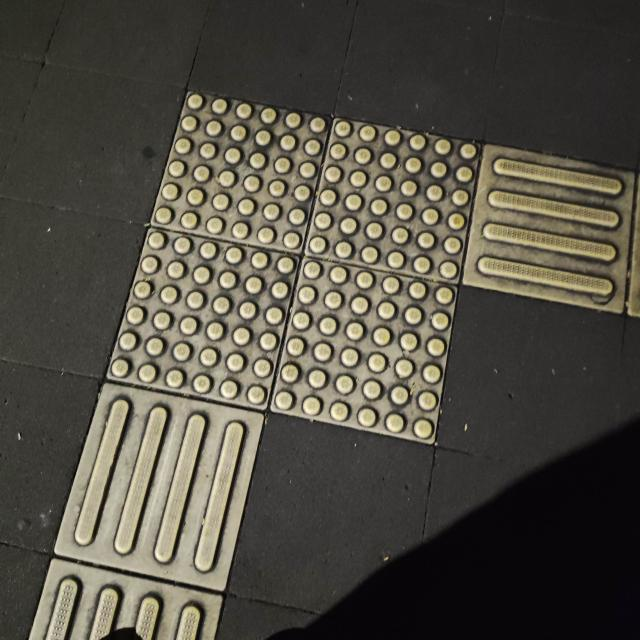kanan: (96, 35, 640, 532)
